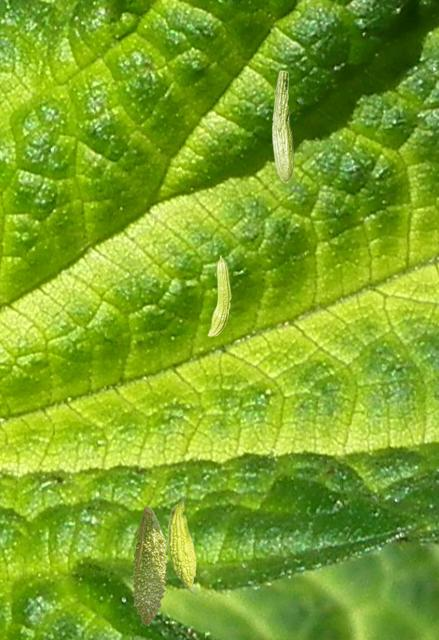ampalaya: (130, 506, 169, 626), (167, 495, 196, 594), (271, 70, 294, 183), (207, 255, 231, 337)
